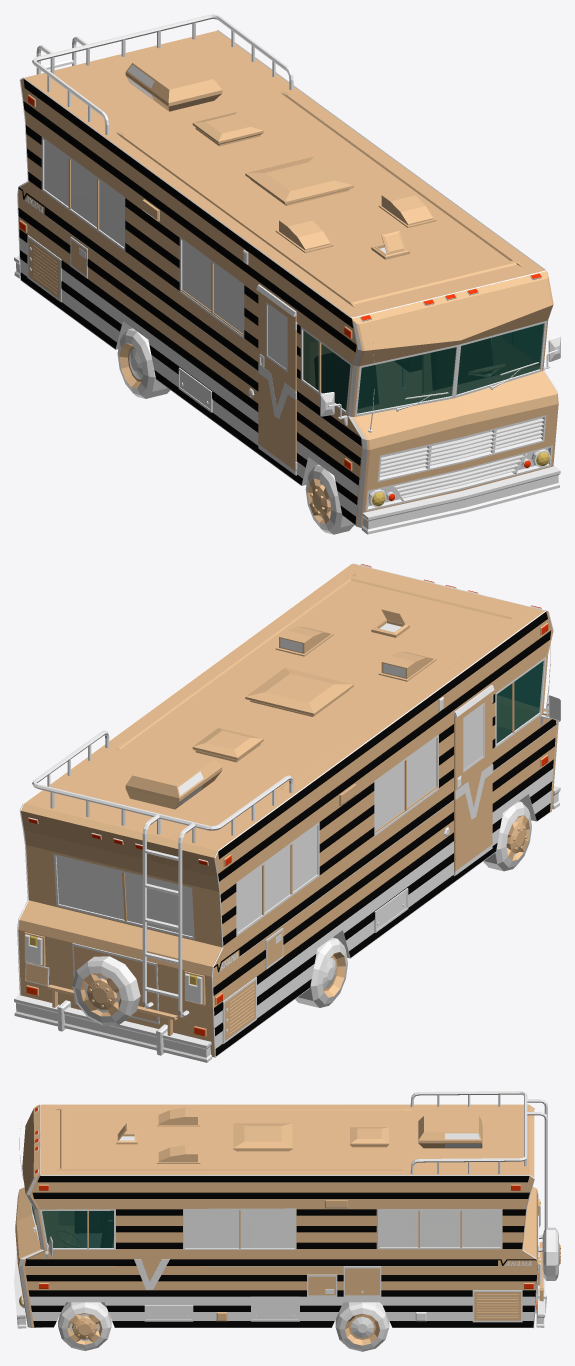
Rendered from Motorhome_03.FBX.
The picture shows the model from 3 angles, top to bottom: view 1: azimuth 30°, elevation 25°; view 2: azimuth 150°, elevation 25°; view 3: azimuth 270°, elevation 25°; orthographic projection. The views are drawn at different scales.
Parts seen in each view (by area): view 1: Motorhome_03, door, bumper_f, grill_01, roofRack, wheel_b_r, wheel_f_r, grill_02, seat_l, seat_r, interior, lights; view 2: Motorhome_03, door, bumper_b, spareWheel, ladder, roofRack, wheel_b_r, wheel_f_r, tailLights, lights; view 3: Motorhome_03, wheel_b_l, wheel_f_l, roofRack, spareWheel, seat_r, ladder, bumper_b, bumper_f, seat_l.
Boxes of the visible parts, x1,y1,x2,y2 form: Motorhome_03: (17,30,558,527); door: (256,284,296,475); bumper_f: (361,466,560,534); grill_01: (379,418,544,476); roofRack: (32,14,293,134); wheel_b_r: (117,328,170,398); wheel_f_r: (305,464,354,534); grill_02: (392,454,526,501); seat_l: (431,338,493,389); seat_r: (315,353,378,409); interior: (181,289,491,392); lights: (19,94,550,507); Motorhome_03: (17,563,558,1057); door: (454,685,494,875); bumper_b: (14,984,212,1062); spareWheel: (72,956,140,1025); ladder: (142,814,194,1017); roofRack: (32,730,293,843); wheel_b_r: (295,937,347,1007); wheel_f_r: (483,801,531,871); tailLights: (25,934,202,1004); lights: (24,564,547,1036); Motorhome_03: (15,1104,538,1328); wheel_b_l: (335,1302,389,1351); wheel_f_l: (58,1302,111,1350); roofRack: (410,1091,527,1174); spareWheel: (542,1227,560,1280); seat_r: (75,1211,104,1247); ladder: (526,1099,547,1251); bumper_b: (535,1242,546,1327); bumper_f: (14,1249,26,1328); seat_l: (101,1211,113,1247).
Bounding box in the file's own units: 29.21 × 30.06 × 77.18.
